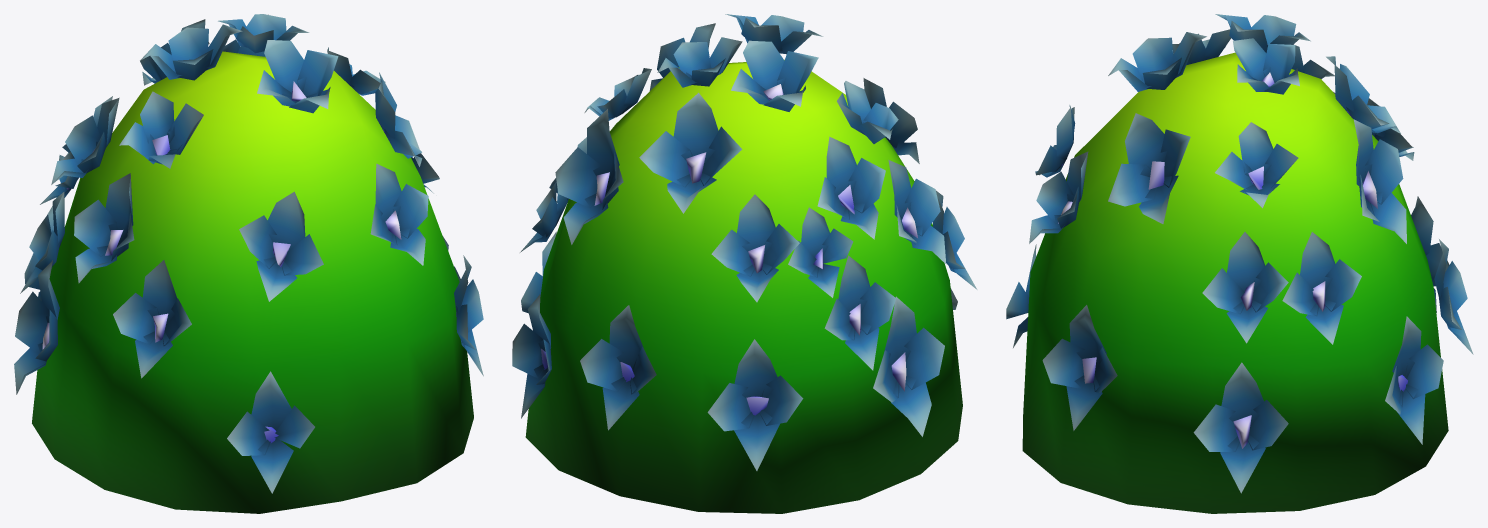
File: Bush3_LOD2.fbx
The picture shows the model from 3 angles, left to right: view 1: azimuth 30°, elevation 25°; view 2: azimuth 150°, elevation 25°; view 3: azimuth 270°, elevation 25°; orthographic projection.
Visible parts, largest first — view 1: Bush3; view 2: Bush3; view 3: Bush3.
Part boxes in pixels (x1=…): Bush3: x1=14, y1=14, x2=483, y2=513; Bush3: x1=512, y1=14, x2=977, y2=513; Bush3: x1=1006, y1=14, x2=1473, y2=513.
Size of the model in its own units: 82.64 by 73.46 by 80.11.
Materials: 1 (1 with a texture image).
